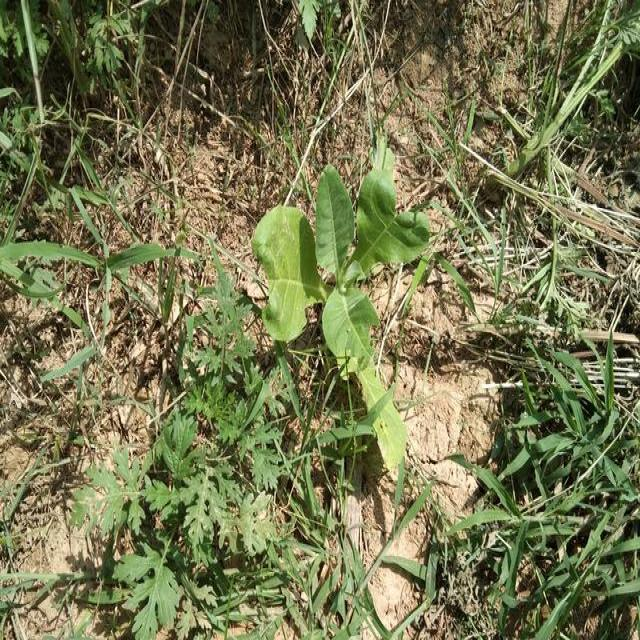crop: (265, 166, 436, 462)
